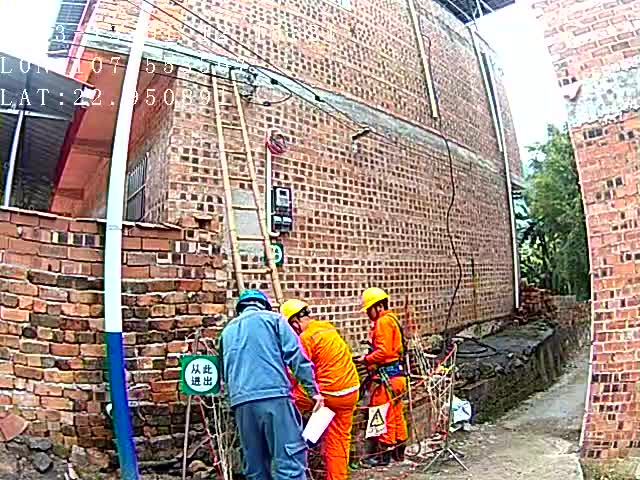halt: (364, 289, 394, 320), (285, 303, 315, 334), (238, 293, 275, 316)
